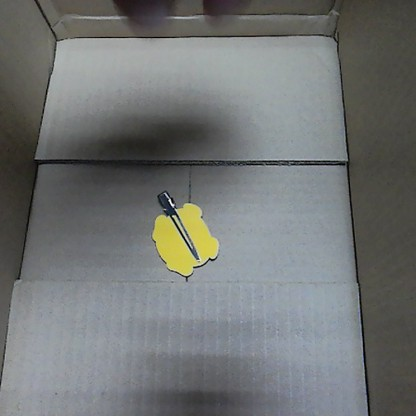dogclip: (149, 184, 220, 277)
